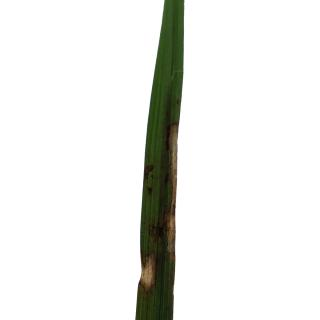Hawar-Daun: (161, 116, 177, 266), (138, 253, 163, 292)
